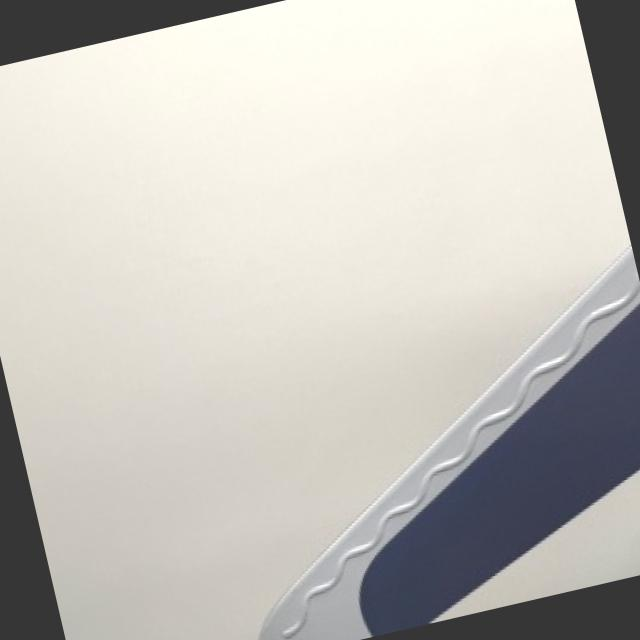healthy: (150, 0, 605, 525), (255, 246, 640, 640)
